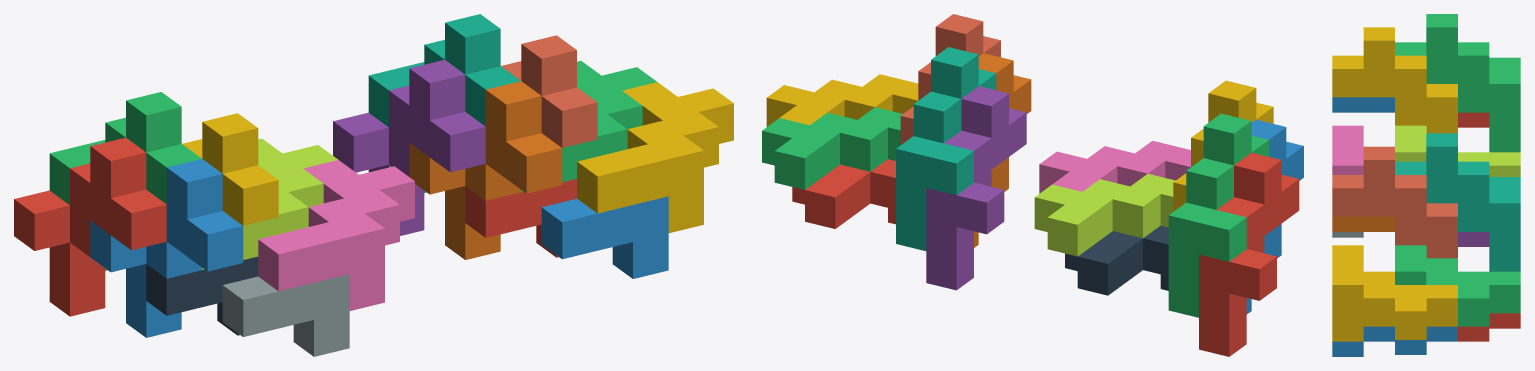
File: tiling.obj
3 views of the same model, side by side, from view 1: azimuth 30°, elevation 25°; view 2: azimuth 150°, elevation 25°; view 3: azimuth 270°, elevation 25° (orthographic). The views are drawn at different scales.
Visible parts, largest first — view 1: copy_1_domain_1, copy_2_domain_4, copy_2_domain_8, copy_1_domain_5, copy_1_domain_2, copy_1_domain_6, copy_2_domain_6, copy_2_domain_2, copy_1_domain_7, copy_1_domain_3, copy_1_domain_4, copy_1_domain_8 (+4 smaller); view 2: copy_1_domain_5, copy_1_domain_1, copy_1_domain_3, copy_1_domain_7, copy_2_domain_3, copy_2_domain_7, copy_2_domain_8, copy_2_domain_4, copy_2_domain_1, copy_2_domain_5, copy_1_domain_8, copy_1_domain_4 (+2 smaller); view 3: copy_1_domain_3, copy_1_domain_7, copy_2_domain_8, copy_1_domain_8, copy_1_domain_4, copy_2_domain_7, copy_2_domain_3, copy_2_domain_6, copy_2_domain_4, copy_2_domain_5, copy_1_domain_2, copy_1_domain_6 (+3 smaller).
Boxes of the visible parts, x1,y1,x2,y2 form: copy_1_domain_1: (14, 137, 166, 316); copy_2_domain_4: (258, 160, 414, 310); copy_2_domain_8: (577, 82, 733, 233); copy_1_domain_5: (333, 60, 485, 235); copy_1_domain_2: (90, 159, 243, 337); copy_1_domain_6: (409, 81, 562, 259); copy_2_domain_6: (541, 196, 668, 278); copy_2_domain_2: (222, 274, 349, 356); copy_1_domain_7: (368, 14, 520, 192); copy_1_domain_3: (49, 92, 201, 270); copy_1_domain_4: (182, 113, 278, 225); copy_1_domain_8: (501, 35, 597, 147); copy_1_domain_5: (926, 86, 1026, 290); copy_1_domain_1: (1199, 152, 1299, 356); copy_1_domain_3: (1168, 113, 1268, 317); copy_1_domain_7: (896, 47, 996, 250); copy_2_domain_3: (1034, 174, 1175, 256); copy_2_domain_7: (762, 107, 902, 189); copy_2_domain_8: (766, 74, 918, 126); copy_2_domain_4: (1039, 140, 1190, 193); copy_2_domain_1: (1065, 225, 1168, 295); copy_2_domain_5: (792, 159, 895, 228); copy_1_domain_8: (900, 14, 1000, 144); copy_1_domain_4: (1173, 80, 1273, 211); copy_1_domain_3: (1395, 14, 1520, 152); copy_1_domain_7: (1395, 133, 1520, 271); copy_2_domain_8: (1332, 245, 1457, 341); copy_1_domain_8: (1332, 146, 1457, 258); copy_1_domain_4: (1332, 27, 1457, 133); copy_2_domain_7: (1395, 245, 1520, 326); copy_2_domain_3: (1395, 125, 1520, 176); copy_2_domain_6: (1332, 326, 1457, 356); copy_2_domain_4: (1332, 125, 1363, 174); copy_2_domain_5: (1458, 313, 1520, 341); copy_1_domain_2: (1332, 97, 1394, 112); copy_1_domain_6: (1332, 216, 1394, 231).
Bounding box in the file's own units: 18 × 6 × 6.
